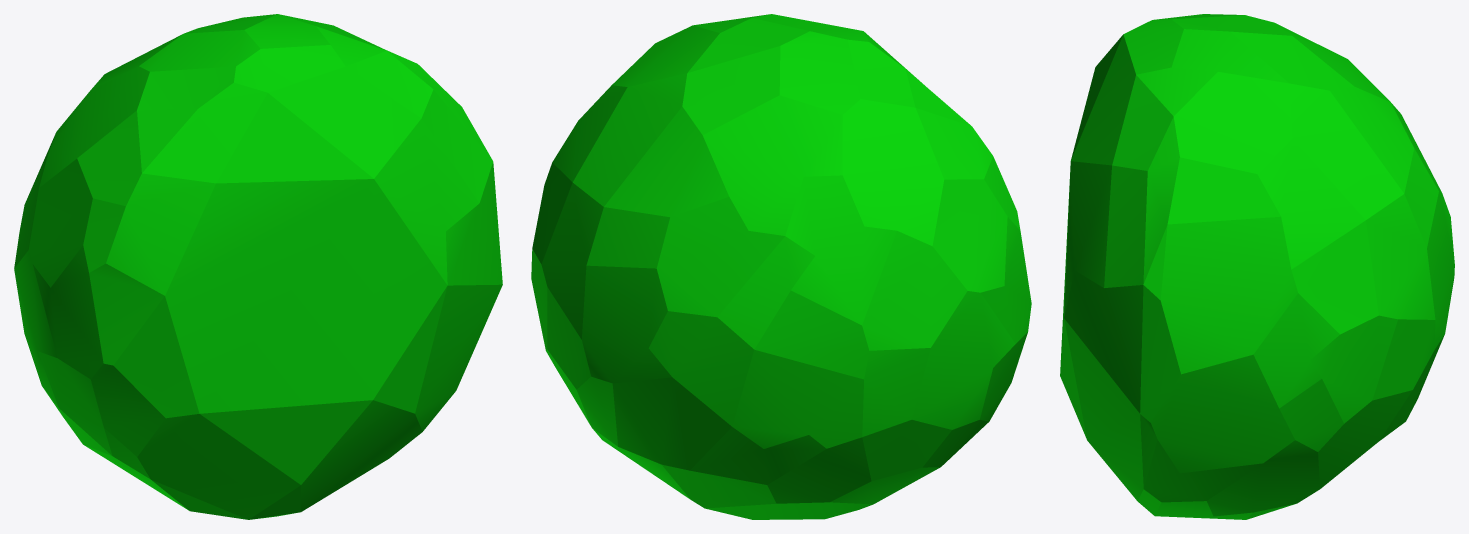
Rendered from RH_HAA_com_constraints.dae.
3 views of the same model, side by side, from view 1: azimuth 30°, elevation 25°; view 2: azimuth 150°, elevation 25°; view 3: azimuth 270°, elevation 25° (orthographic).
Parts seen in each view (by area): view 1: foo_011; view 2: foo_011; view 3: foo_011.
Boxes of the visible parts, left/top/right/bottom form: foo_011: left=14, top=14, right=502, bottom=519; foo_011: left=531, top=14, right=1031, bottom=519; foo_011: left=1060, top=14, right=1454, bottom=519.
Bounding box in the file's own units: 1.92 × 1.49 × 1.89.
